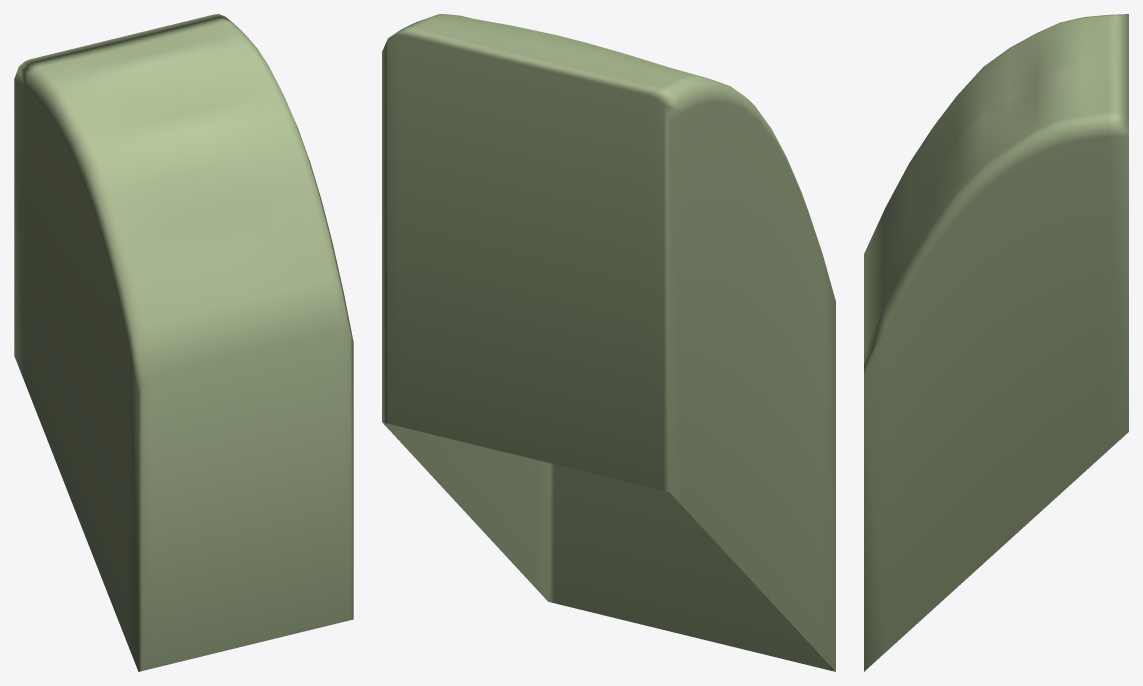
File: ground-ramp-lr-32.glb
The picture shows the model from 3 angles, left to right: view 1: azimuth 30°, elevation 25°; view 2: azimuth 150°, elevation 25°; view 3: azimuth 270°, elevation 25°; orthographic projection. The views are drawn at different scales.
Visible parts, largest first — view 1: ground-ramp-lr-32; view 2: ground-ramp-lr-32; view 3: ground-ramp-lr-32.
Boxes of the visible parts, x1,y1,x2,y2 form: ground-ramp-lr-32: (14,14,353,671); ground-ramp-lr-32: (382,14,835,671); ground-ramp-lr-32: (864,14,1128,671).
Bounding box in the file's own units: 1 × 2.3 × 1.
